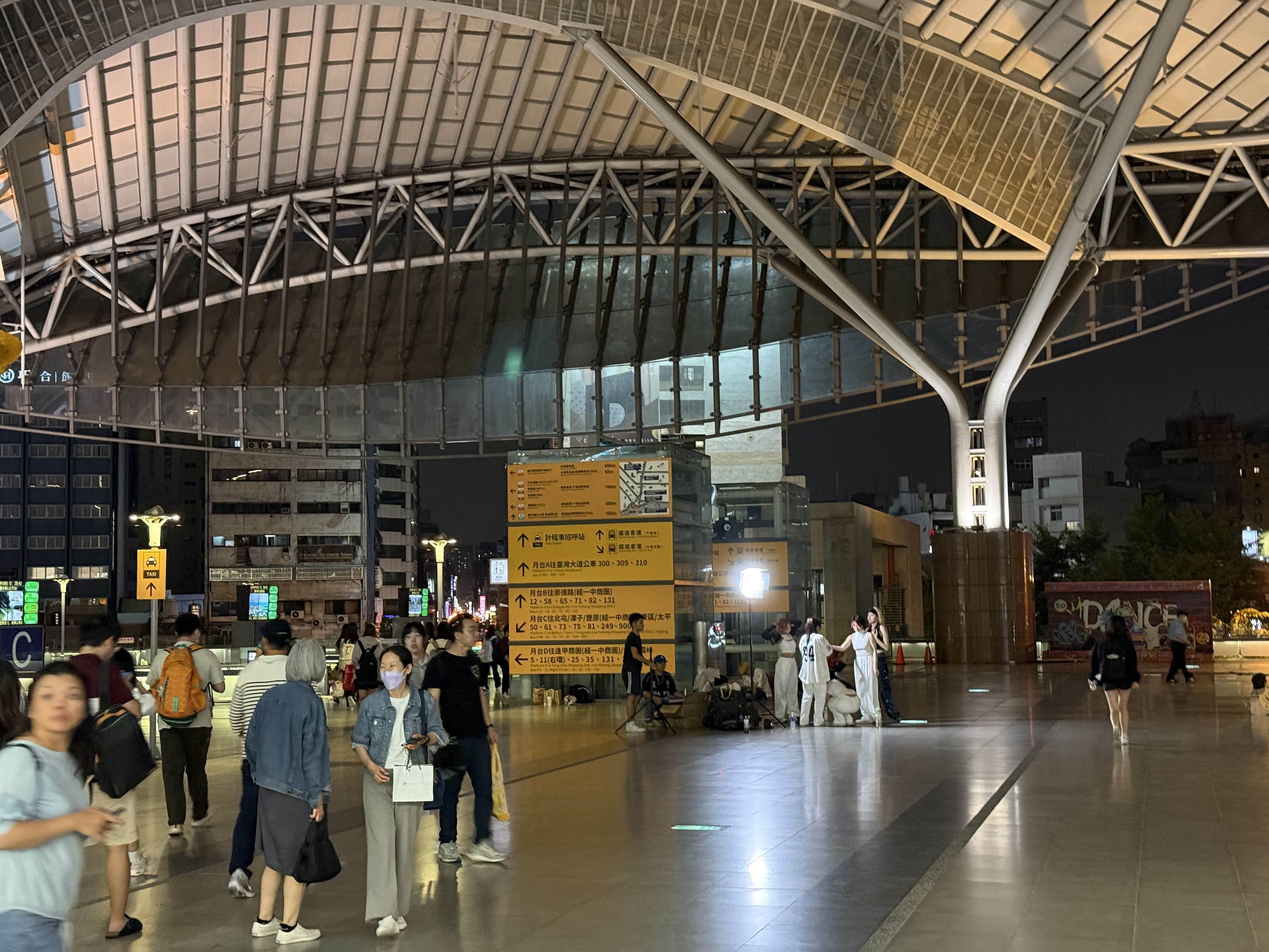NoHelmet: (288, 638, 326, 683), (378, 646, 413, 689), (453, 613, 481, 648), (404, 622, 427, 654), (628, 613, 646, 632)
